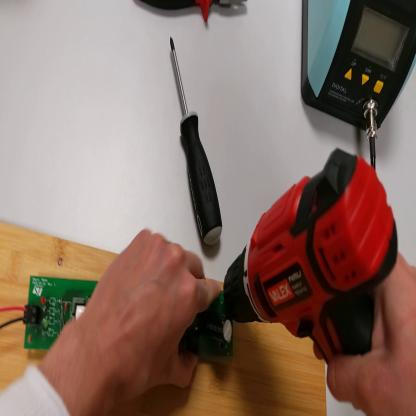electric screwdriver: (224, 163, 403, 366)
hand: (85, 228, 219, 401), (314, 249, 416, 416)
pliers: (136, 4, 247, 28)
screwdriver-: (169, 38, 222, 253)
welder station: (301, 3, 416, 139)
working area: (2, 220, 327, 416)
